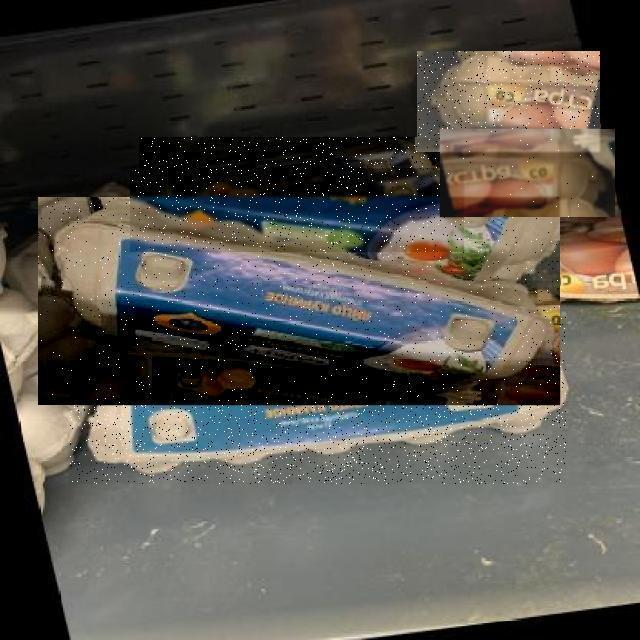Eggs: (38, 197, 560, 405), (71, 316, 567, 484), (130, 170, 464, 252), (140, 138, 438, 214), (417, 51, 600, 152), (440, 129, 615, 217)
